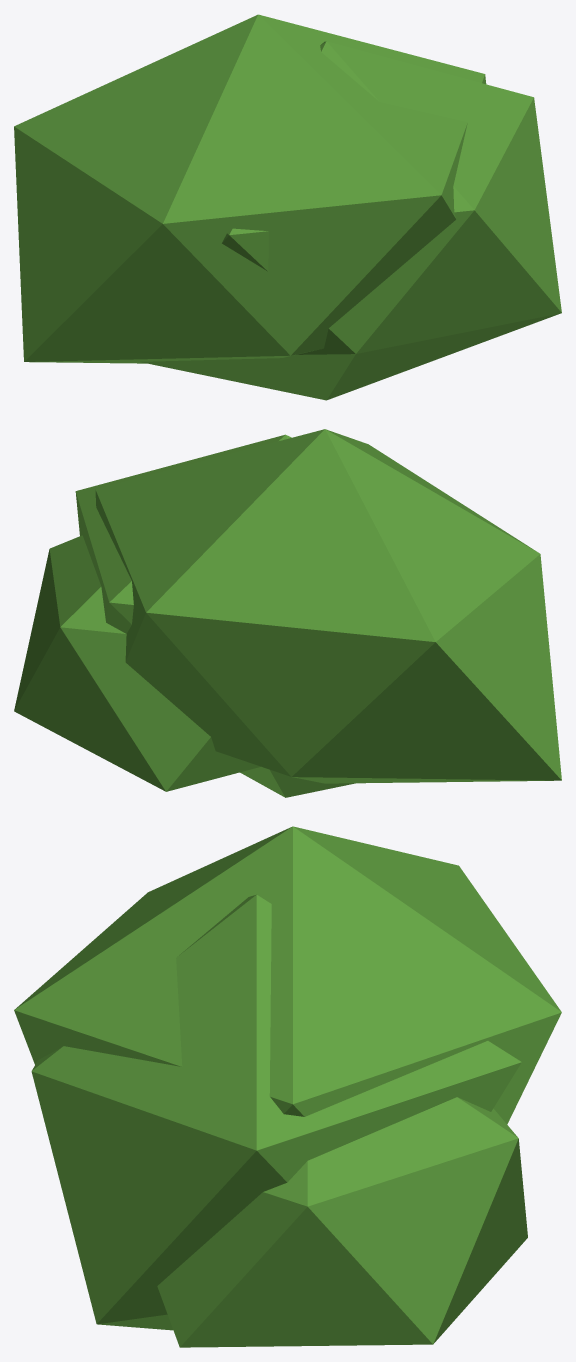
The model's file is HS_LP_Bush_02.fbx.
3 views of the same model, one above another, from view 1: azimuth 30°, elevation 25°; view 2: azimuth 150°, elevation 25°; view 3: azimuth 270°, elevation 25° (orthographic). The views are drawn at different scales.
Parts seen in each view (by area): view 1: HS_LP_Bush_02; view 2: HS_LP_Bush_02; view 3: HS_LP_Bush_02.
Part boxes in pixels (x1,y1,x2,y2): HS_LP_Bush_02: (14, 14, 561, 400); HS_LP_Bush_02: (14, 429, 561, 797); HS_LP_Bush_02: (14, 826, 561, 1347).
Size of the model in its own units: 115 by 85.09 by 88.34.
